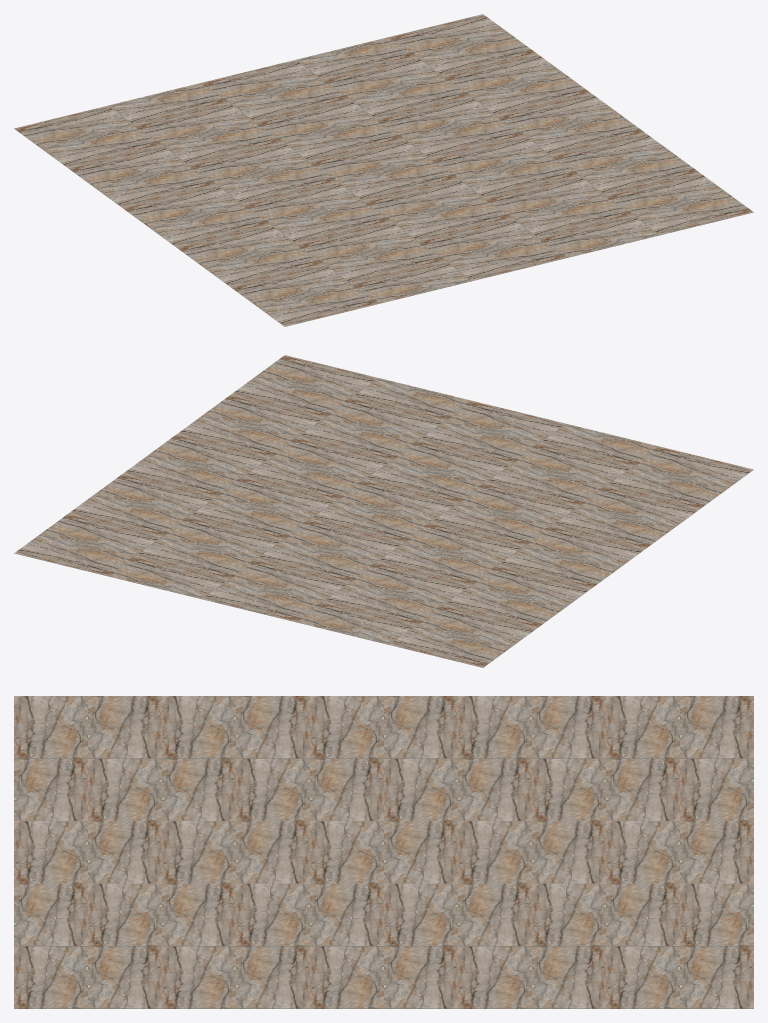
Rendered from sandstone-80x160.glb.
3 renders of one model, top to bottom at view 1: azimuth 30°, elevation 25°; view 2: azimuth 150°, elevation 25°; view 3: azimuth 270°, elevation 25°, orthographic. The views are drawn at different scales.
Parts seen in each view (by area): view 1: Sandstone; view 2: Sandstone; view 3: Sandstone.
Part boxes in pixels (x1,y1,x2,y2): Sandstone: [14, 14, 753, 326]; Sandstone: [14, 355, 753, 667]; Sandstone: [14, 696, 753, 1008].
Size of the model in its own units: 8 by 0.003 by 8.
2 materials, 1 textured.
